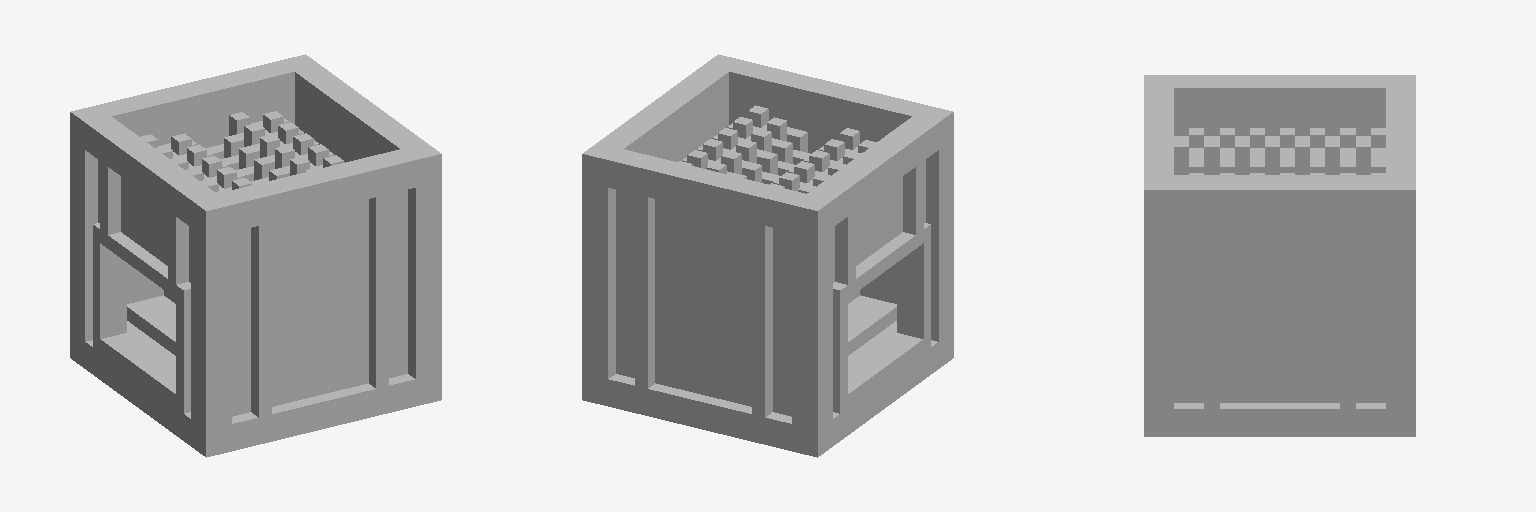
The model's file is essenceMacerator.obj.
The picture shows the model from 3 angles: view 1: azimuth 30°, elevation 25°; view 2: azimuth 150°, elevation 25°; view 3: azimuth 270°, elevation 25°; orthographic projection.
Visible parts, largest first — view 1: EssenceMacerator; view 2: EssenceMacerator; view 3: EssenceMacerator.
Part boxes in pixels (left/top/right/bottom): EssenceMacerator: left=70, top=54, right=441, bottom=457; EssenceMacerator: left=582, top=54, right=953, bottom=457; EssenceMacerator: left=1144, top=75, right=1415, bottom=436.
Size of the model in its own units: 18 by 18 by 18.